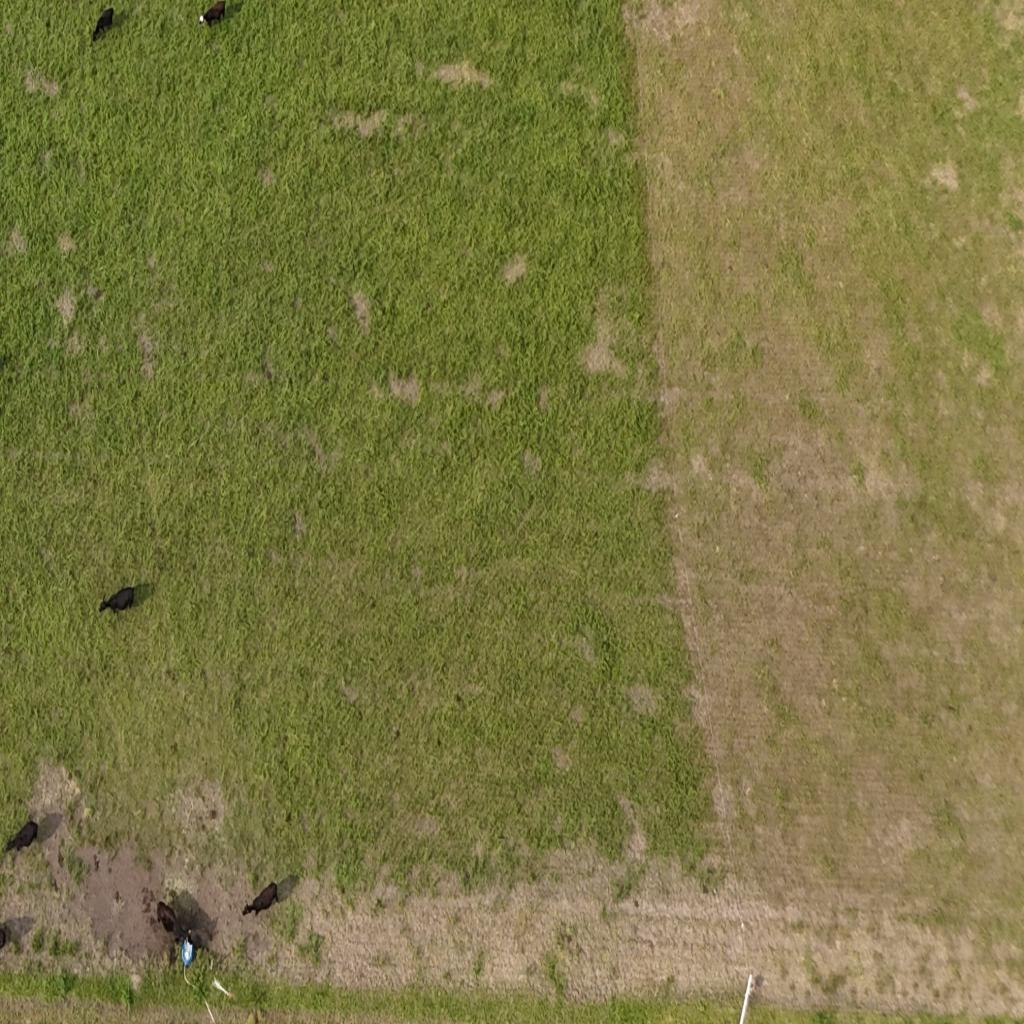cow: (102, 576, 153, 620), (4, 818, 38, 854), (242, 882, 278, 916), (1, 916, 33, 954), (91, 6, 121, 46), (152, 894, 178, 938), (198, 2, 227, 30)
